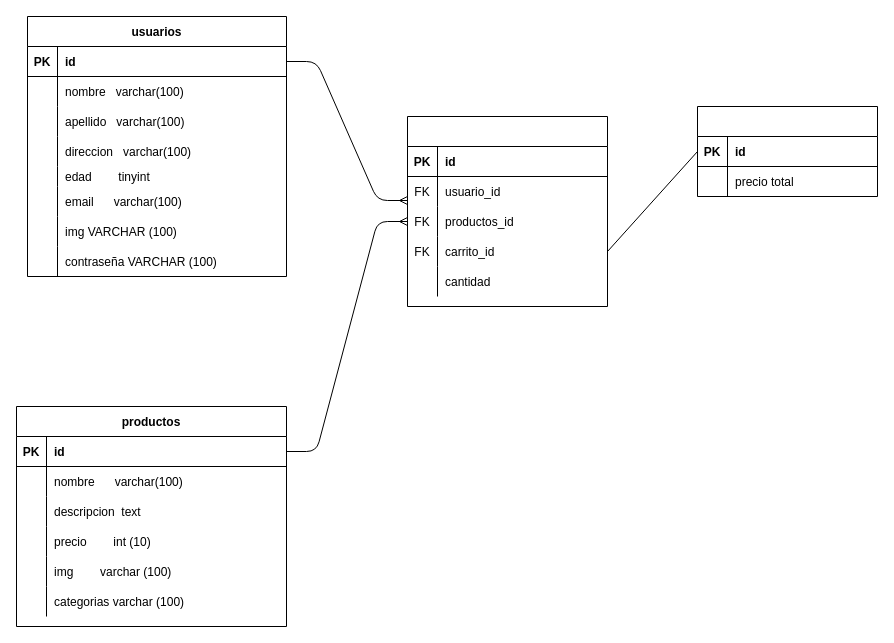
Image size: 894x643. Some labels were removed from this diagram. The shapes that lost their labels are listed below. From the top down, each one's box as (x1, y1, x2, y2) in pixels, then its label:
(696, 106, 878, 196): carrito_productos
(406, 116, 608, 306): tabla relacional
